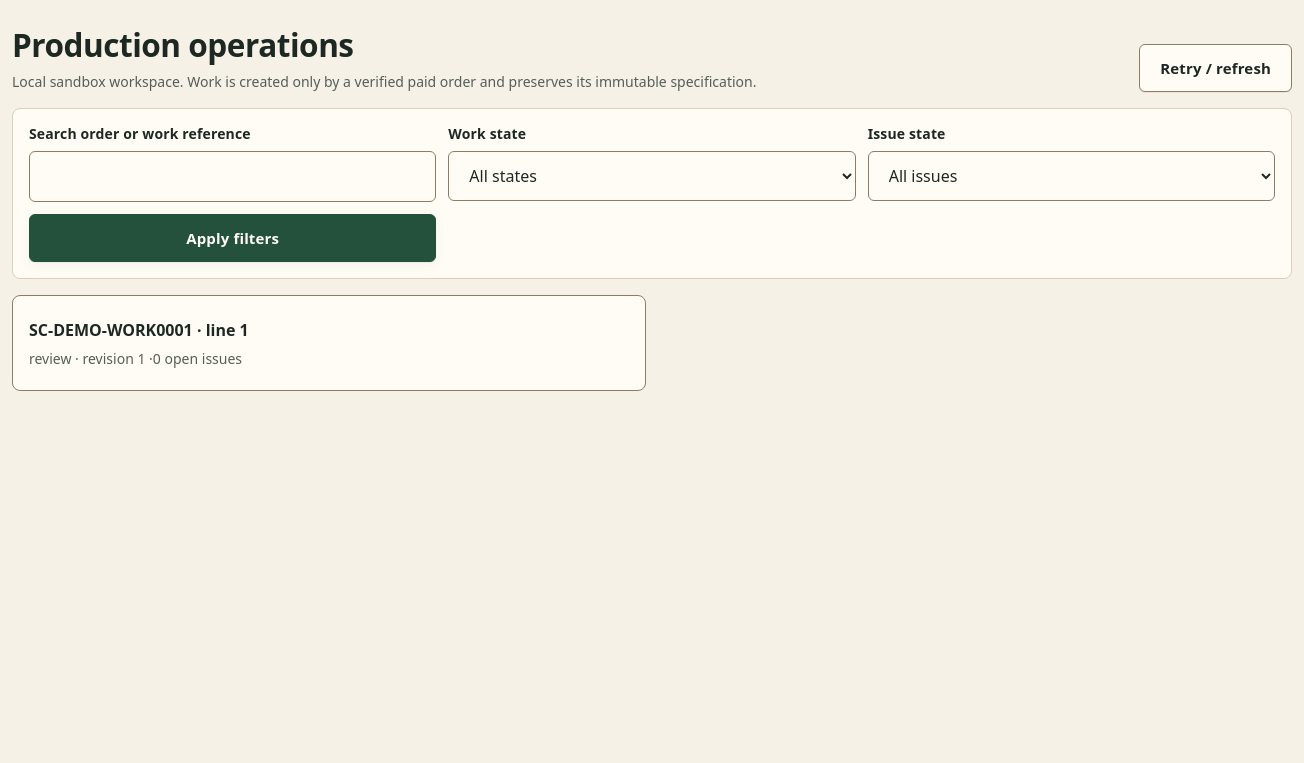
Scenario: a work step leaves focus where the visitor moved it while the step ran
Click the button "SC-DEMO-WORK0001 · line 1 review · revision 1 ·0 open issues": (111, 330) x1=12 y1=295 x2=646 y2=391
(page scrolled)
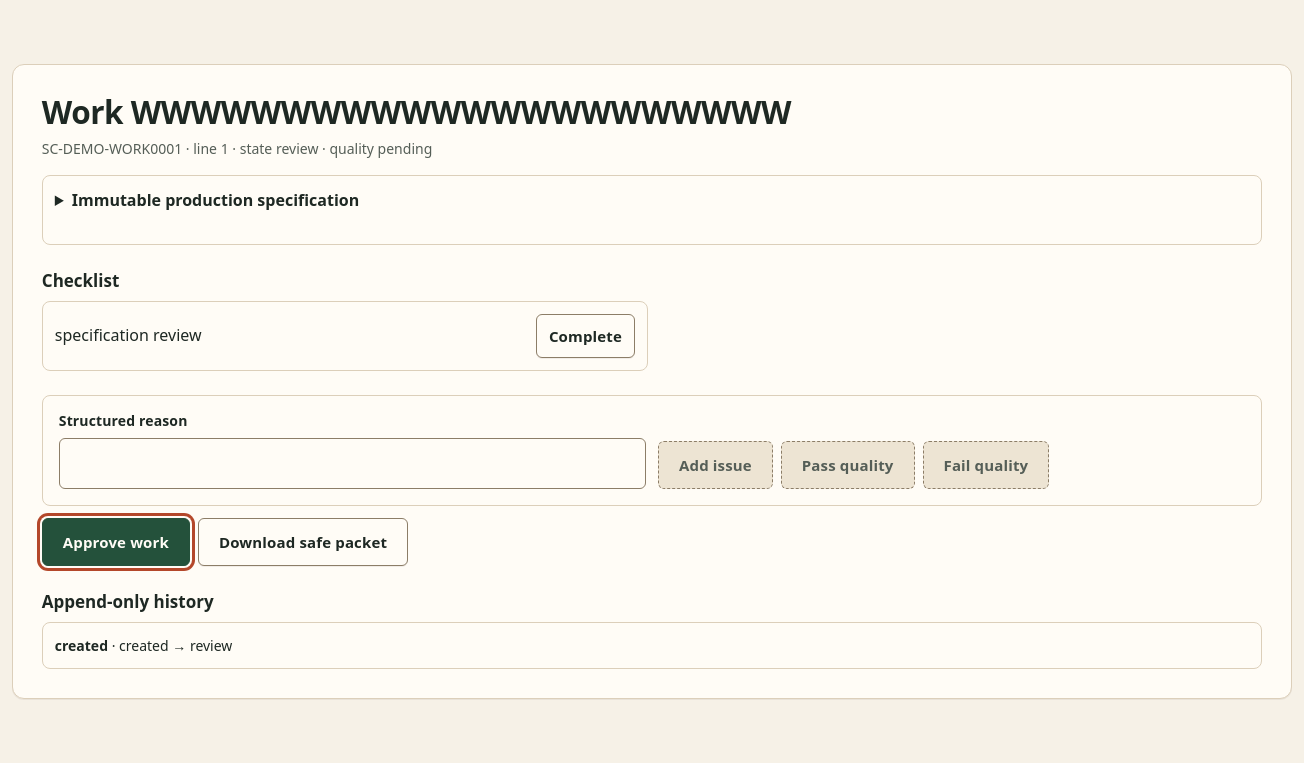
Click the button "Approve work": (116, 542) x1=42 y1=518 x2=190 y2=566
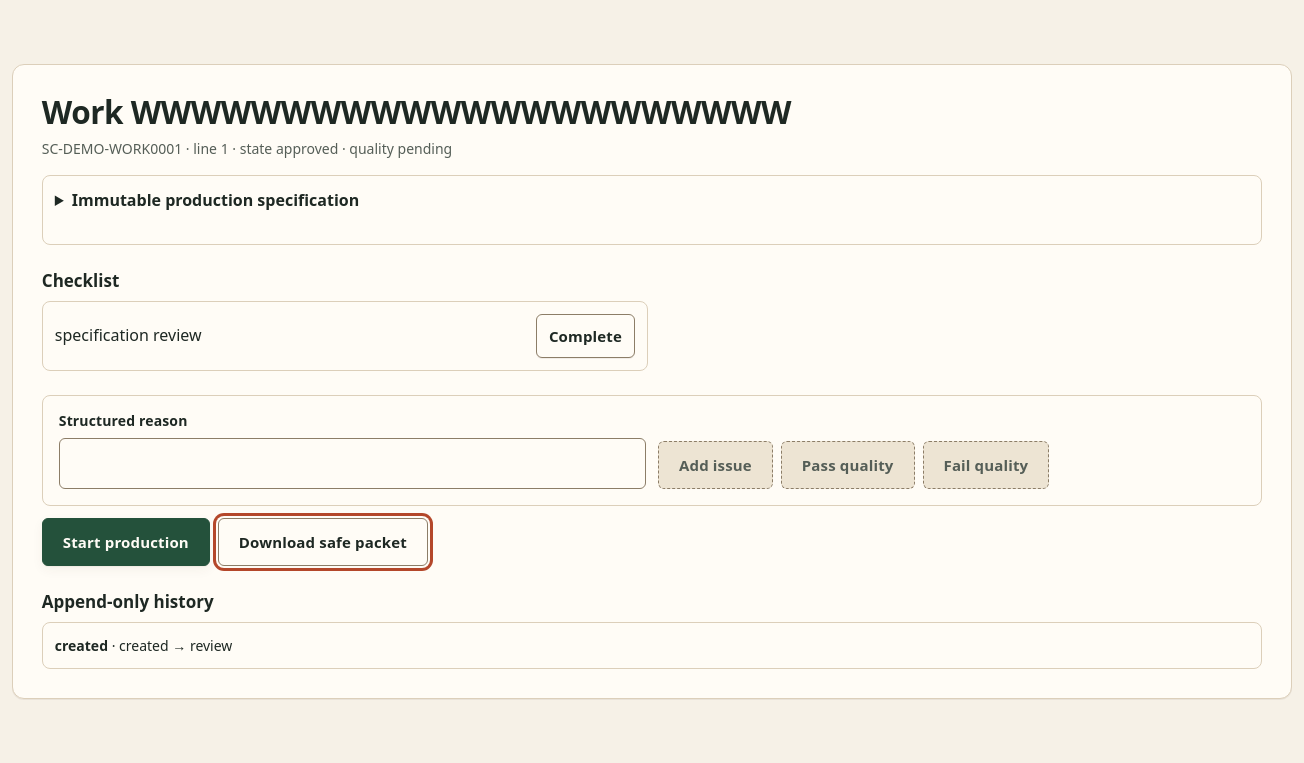
Check: the button "Start production" is shown, box x1=42 y1=518 x2=210 y2=566
